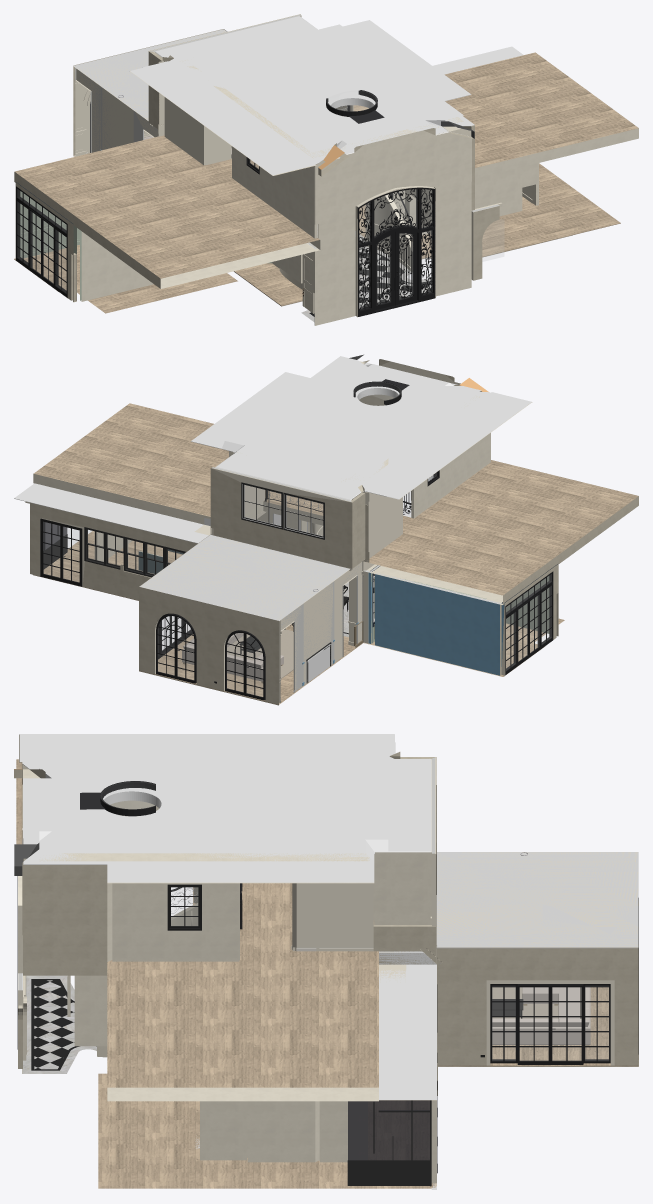
File: family-room-a5aef7e25925.glb
The picture shows the model from 3 angles, top to bottom: view 1: azimuth 30°, elevation 25°; view 2: azimuth 150°, elevation 25°; view 3: azimuth 270°, elevation 25°; orthographic projection. The views are drawn at different scales.
Parts seen in each view (by area): view 1: family-room-look-2575515a05775d9e, family-room-look-e8793759323e04f0, family-room-look-9d91b47435c6fb33, family-room-look-34525a54e63b733b, family-room-look-3b0077416469e01b, family-room-look-d5a4a1b5d3594c04, family-room-look-5f56640b372ec5ce, family-room-look-746250f96522f643, family-room-4a969f5cc1ae3dfe, family-room-look-bce662e26d5a5947, family-room-look-d999b7e09afcf2f4, family-room-9d80b152e3f2ea10 (+30 smaller); view 2: family-room-look-2575515a05775d9e, family-room-look-e8793759323e04f0, family-room-look-9d91b47435c6fb33, family-room-4a969f5cc1ae3dfe, family-room-look-b19b106fc304963c, family-room-look-245f595ae2832e16, family-room-969b861f9850351e, family-room-look-bfb9fa537cd11d1d, family-room-look-9a0e9ee9b2a451d7, family-room-9d80b152e3f2ea10, family-room-look-5f56640b372ec5ce, family-room-50d54560d247b537 (+27 smaller); view 3: family-room-look-2575515a05775d9e, family-room-look-e8793759323e04f0, family-room-look-9d91b47435c6fb33, family-room-4a969f5cc1ae3dfe, family-room-look-3b0077416469e01b, family-room-e706aa16b4547c37, family-room-look-62353aa10fc57f23, family-room-50d54560d247b537, family-room-look-c51ecd664a3b22a3, family-room-look-9a0e9ee9b2a451d7, family-room-look-5f56640b372ec5ce, family-room-look-69af8f587252f9fa (+28 smaller).
Boxes of the visible parts, x1,y1,x2,y2 form: family-room-look-2575515a05775d9e: (14,52,638,288); family-room-look-e8793759323e04f0: (180,23,463,158); family-room-look-9d91b47435c6fb33: (130,16,474,175); family-room-look-34525a54e63b733b: (314,126,471,244); family-room-look-3b0077416469e01b: (14,163,620,306); family-room-look-d5a4a1b5d3594c04: (314,208,471,325); family-room-look-5f56640b372ec5ce: (254,81,404,139); family-room-look-746250f96522f643: (232,146,317,238); family-room-4a969f5cc1ae3dfe: (73,29,226,120); family-room-look-bce662e26d5a5947: (357,187,435,316); family-room-look-d999b7e09afcf2f4: (80,230,153,301); family-room-9d80b152e3f2ea10: (76,69,158,152); family-room-look-2575515a05775d9e: (33,403,638,604); family-room-look-e8793759323e04f0: (222,356,481,481); family-room-look-9d91b47435c6fb33: (191,362,532,500); family-room-4a969f5cc1ae3dfe: (139,534,349,621); family-room-look-b19b106fc304963c: (375,573,501,675); family-room-look-245f595ae2832e16: (210,467,352,568); family-room-969b861f9850351e: (139,587,280,704); family-room-look-bfb9fa537cd11d1d: (30,502,197,600); family-room-look-9a0e9ee9b2a451d7: (14,483,208,543); family-room-9d80b152e3f2ea10: (280,562,362,690); family-room-look-5f56640b372ec5ce: (324,377,464,430); family-room-50d54560d247b537: (139,534,343,620); family-room-look-2575515a05775d9e: (16,759,378,1101); family-room-look-e8793759323e04f0: (39,756,388,861); family-room-look-9d91b47435c6fb33: (19,734,431,883); family-room-4a969f5cc1ae3dfe: (436,852,638,948); family-room-look-3b0077416469e01b: (98,920,436,1188); family-room-e706aa16b4547c37: (437,948,633,1065); family-room-look-62353aa10fc57f23: (23,865,112,975); family-room-50d54560d247b537: (436,852,638,948); family-room-look-c51ecd664a3b22a3: (112,883,239,961); family-room-look-9a0e9ee9b2a451d7: (379,964,436,1100); family-room-look-5f56640b372ec5ce: (83,756,196,825); family-room-look-69af8f587252f9fa: (292,883,373,947).
Bounding box in the file's own units: 21.02 × 7.02 × 16.88.
Materials: 63 (12 with a texture image).
